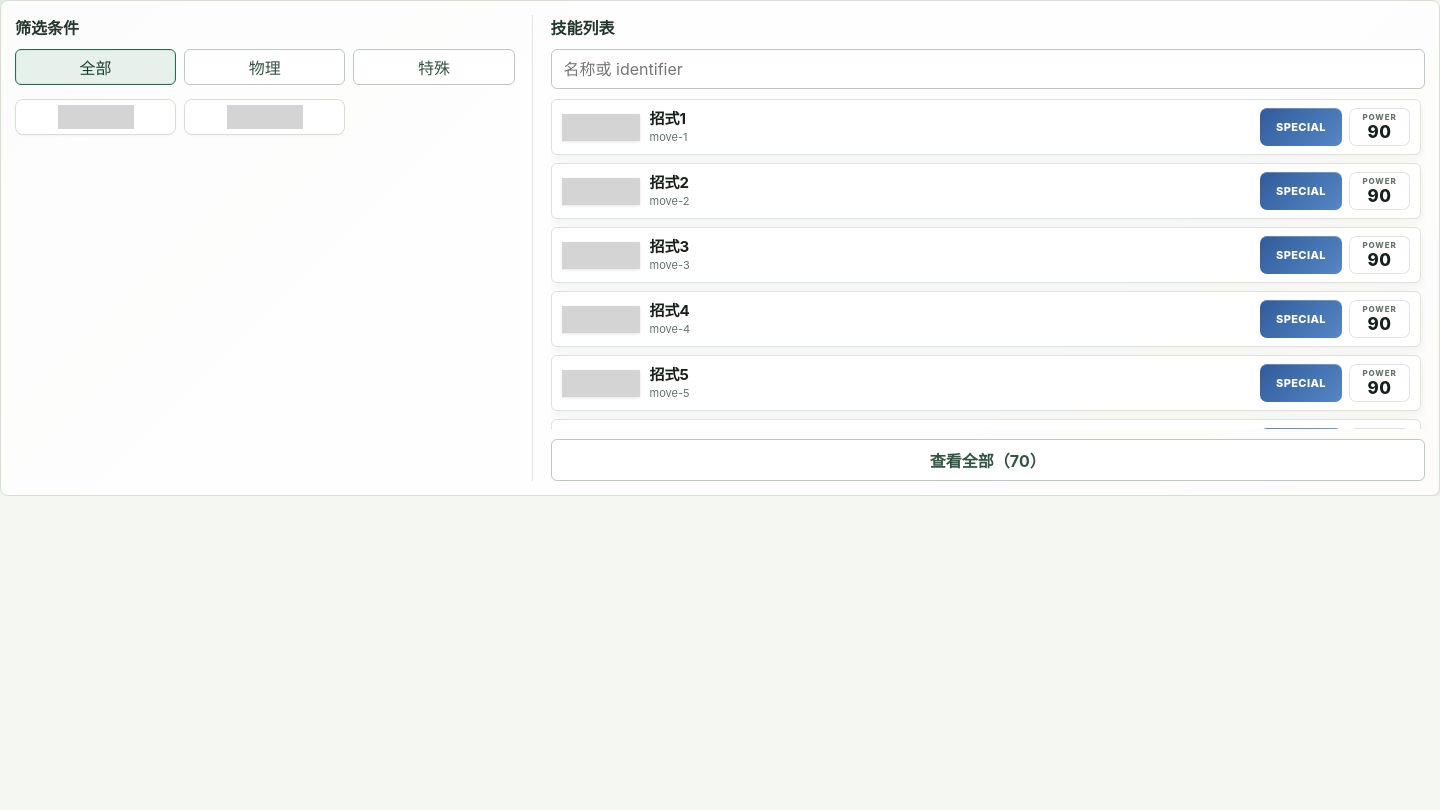
it: MoveSelector › loads modal pages in batches of fifty and removes duplicate move ids
Click the button with test id "open-move-modal".
click(988, 460)  # box 551,439 -> 1425,481
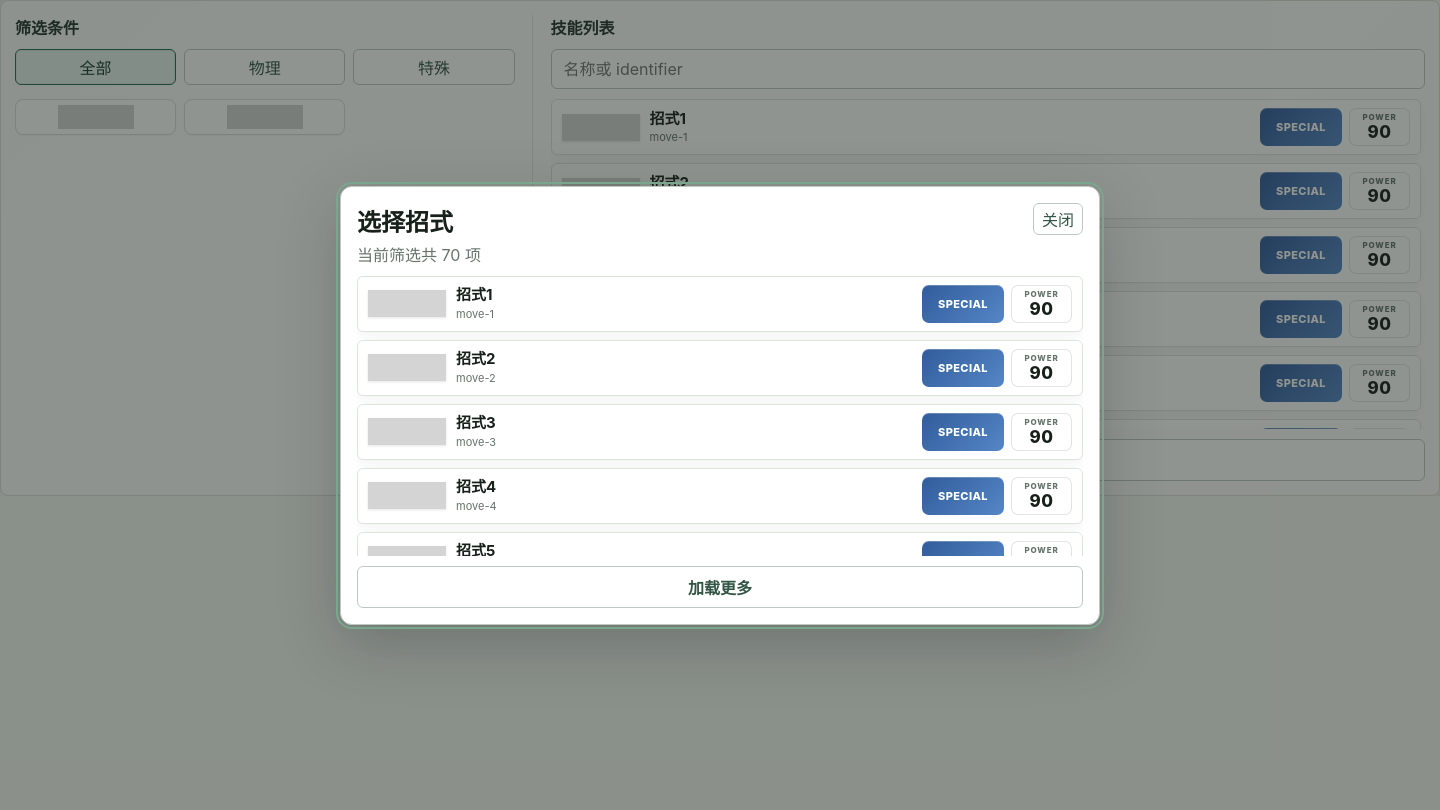
Click the button with test id "load-more-moves".
click(720, 586)  # box 357,566 -> 1083,608
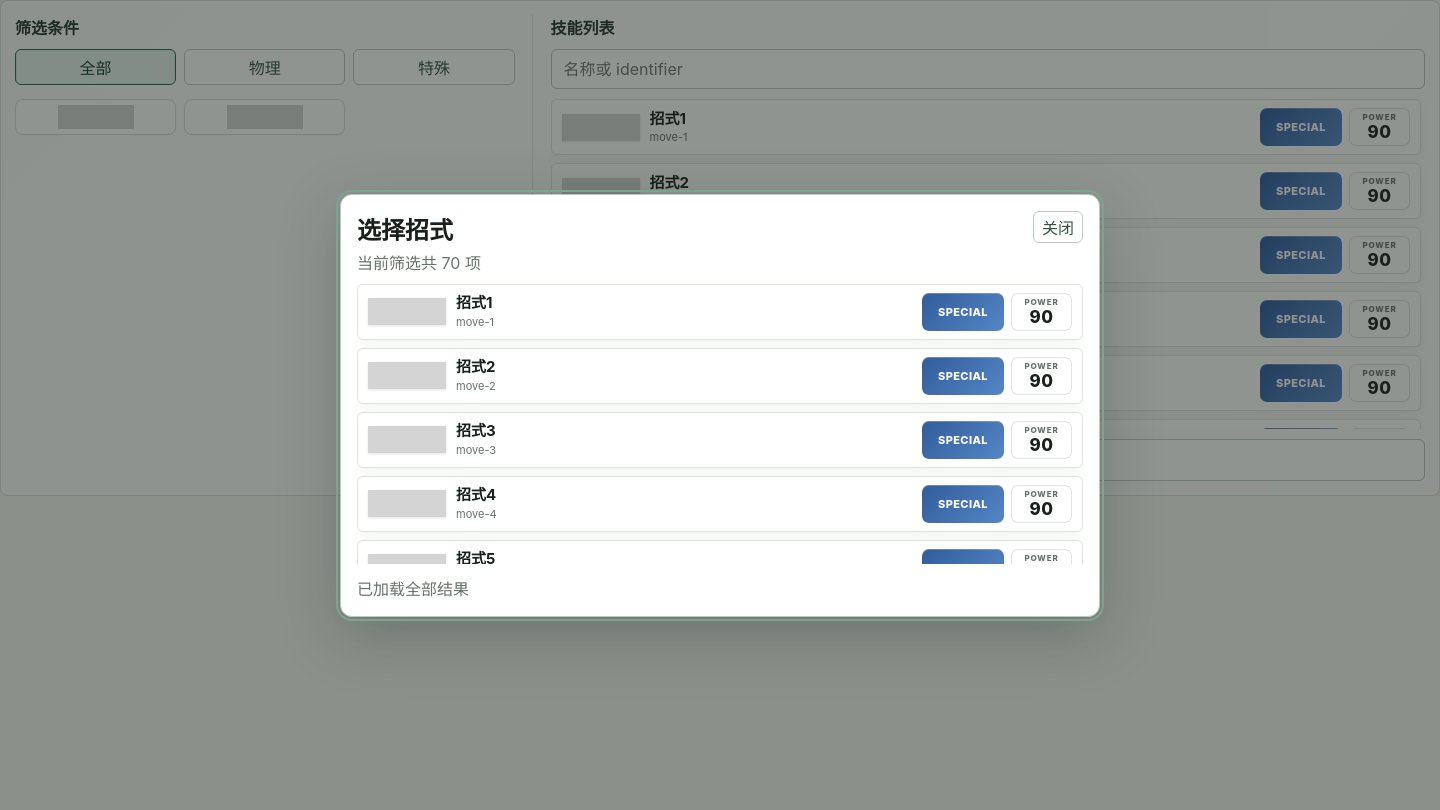
Expected: the text "已加载全部结果" is shown, 357,578 -> 469,598
